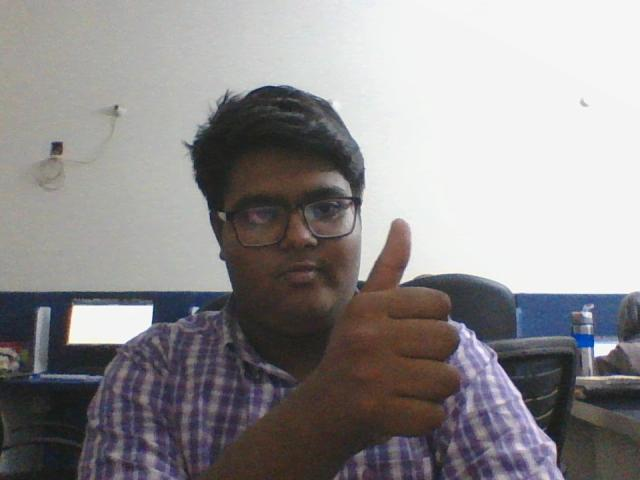thumbs-up: (325, 213, 466, 441)
